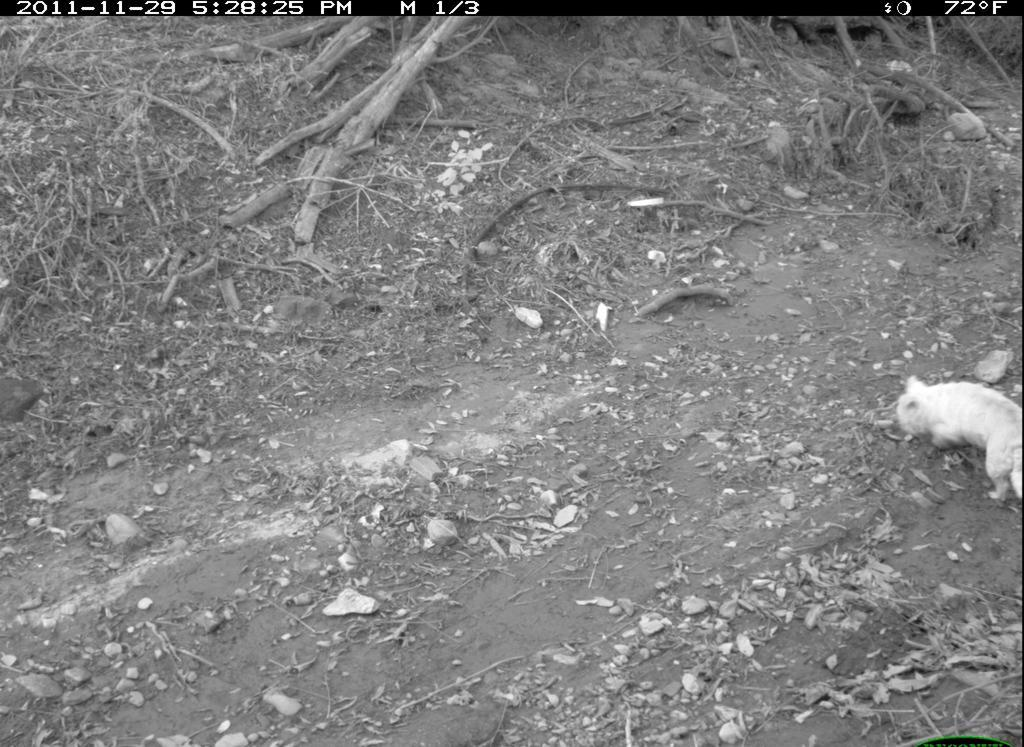dog: (880, 368, 1022, 511)
